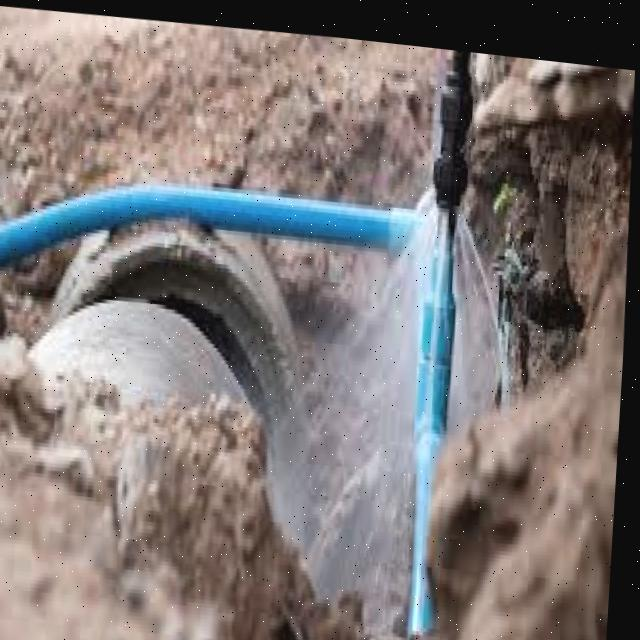corrosion: (275, 125, 500, 525)
